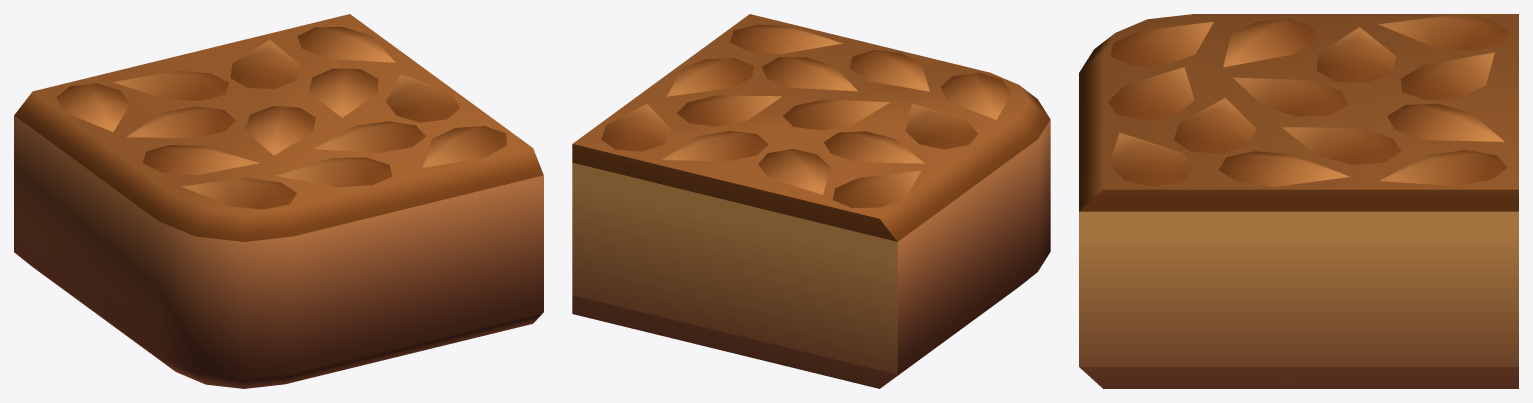
Rendered from m_Bienenstich01_Slice01.fbx.
The picture shows the model from 3 angles, left to right: view 1: azimuth 30°, elevation 25°; view 2: azimuth 150°, elevation 25°; view 3: azimuth 270°, elevation 25°; orthographic projection. The views are drawn at different scales.
Visible parts, largest first — view 1: m_Bienenstich01_Slice01; view 2: m_Bienenstich01_Slice01; view 3: m_Bienenstich01_Slice01.
Boxes of the visible parts, x1,y1,x2,y2 form: m_Bienenstich01_Slice01: (14,14,543,388); m_Bienenstich01_Slice01: (572,14,1050,388); m_Bienenstich01_Slice01: (1079,14,1518,388).
Size of the model in its own units: 10 by 5.3 by 10.
